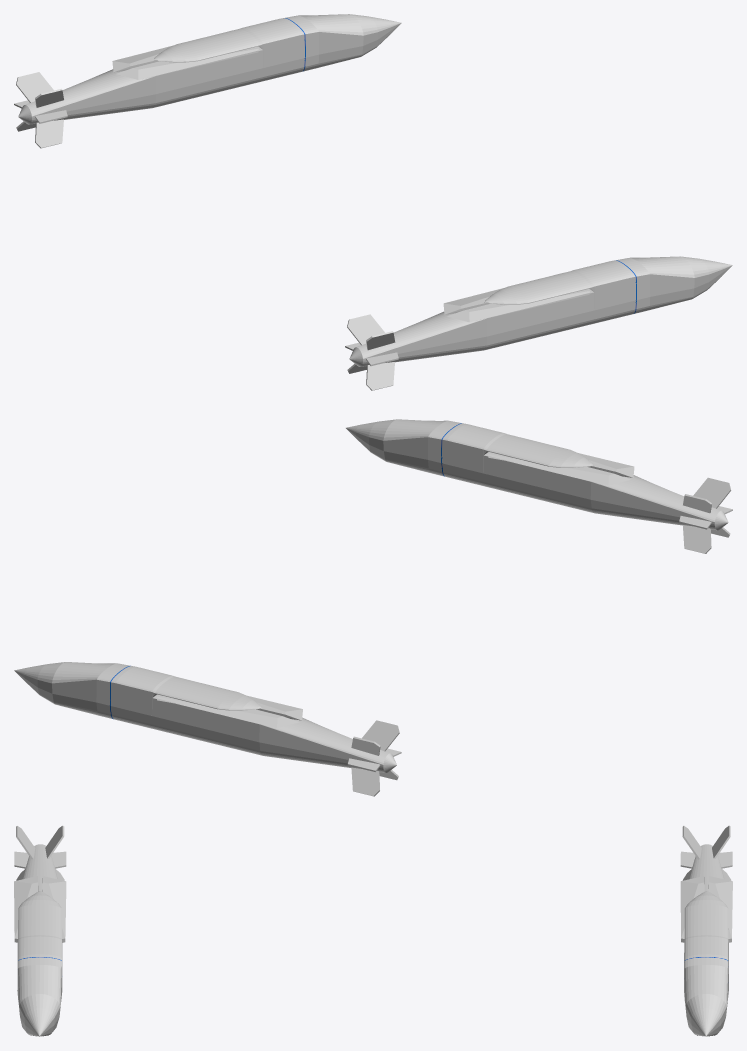
The model's file is fa18fagm15415.glb.
3 renders of one model, top to bottom at view 1: azimuth 30°, elevation 25°; view 2: azimuth 150°, elevation 25°; view 3: azimuth 270°, elevation 25°, orthographic.
Visible parts, largest first — view 1: 立方体.001, 立方体.005; view 2: 立方体.005, 立方体.001; view 3: 立方体.005, 立方体.001.
Part boxes in pixels (x1,y1,x2,y2): 立方体.001: (14, 14, 401, 148); 立方体.005: (345, 256, 732, 390); 立方体.005: (346, 419, 732, 553); 立方体.001: (14, 662, 401, 796); 立方体.005: (14, 825, 66, 1036); 立方体.001: (680, 825, 732, 1036).
Size of the model in its own units: 5.26 by 0.7224 by 8.49.
Materials: 5 (1 with a texture image).
